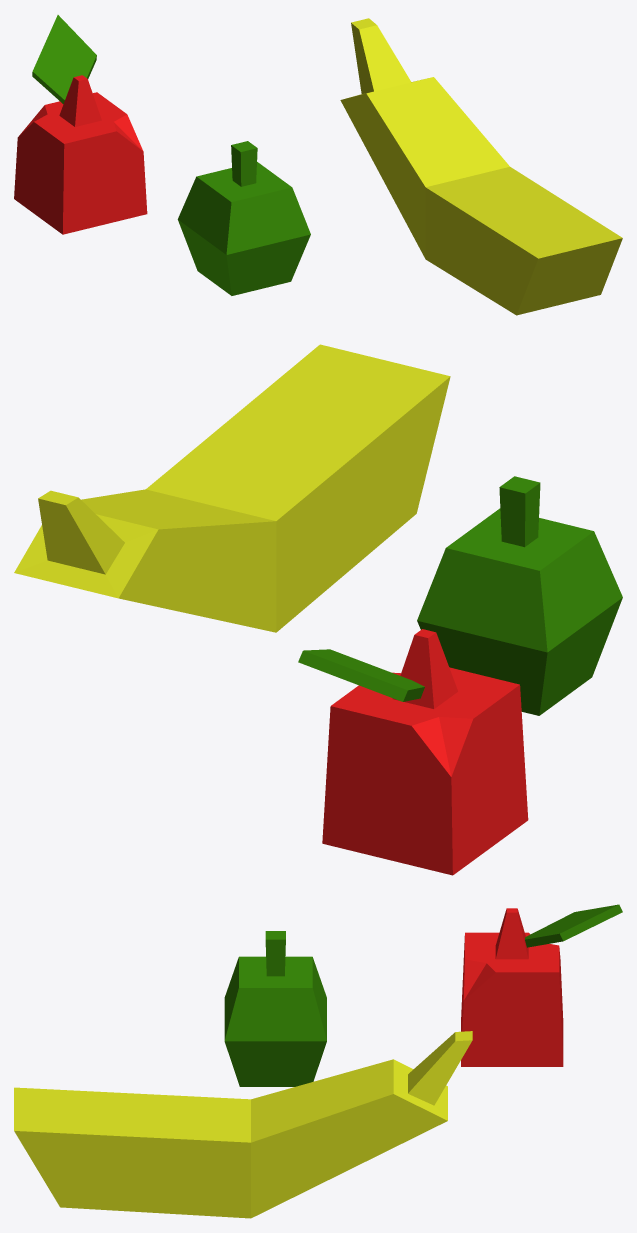
The model's file is FRUITS.FBX.
3 renders of one model, top to bottom at view 1: azimuth 30°, elevation 25°; view 2: azimuth 150°, elevation 25°; view 3: azimuth 270°, elevation 25°, orthographic. The views are drawn at different scales.
Parts seen in each view (by area): view 1: Box221, Box222, Box220, Box223; view 2: Box221, Box222, Box220, Box223; view 3: Box221, Box222, Box220, Box223.
Part boxes in pixels (box(x1,y1,x2,y2)): Box221: box(340, 18, 622, 315); Box222: box(14, 75, 147, 234); Box220: box(177, 141, 310, 295); Box223: box(32, 15, 96, 103); Box221: box(14, 344, 450, 632); Box222: box(322, 629, 528, 875); Box220: box(417, 476, 622, 715); Box223: box(298, 649, 424, 701); Box221: box(14, 1031, 472, 1218); Box222: box(461, 908, 563, 1066); Box220: box(224, 931, 326, 1086); Box223: box(525, 904, 622, 947).
Bounding box in the file's own units: 80.91 × 36.43 × 117.
